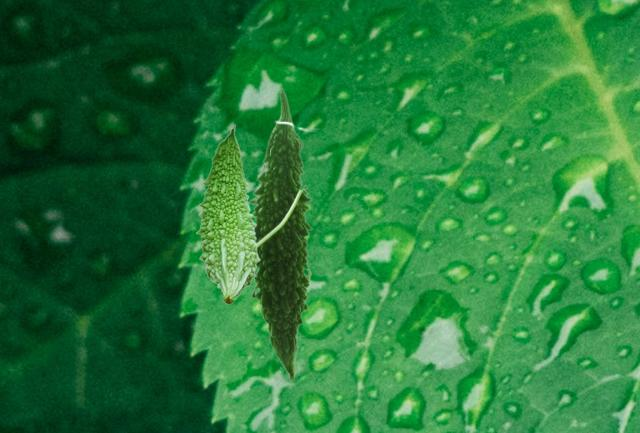ampalaya: (249, 87, 321, 382), (195, 124, 261, 305)
